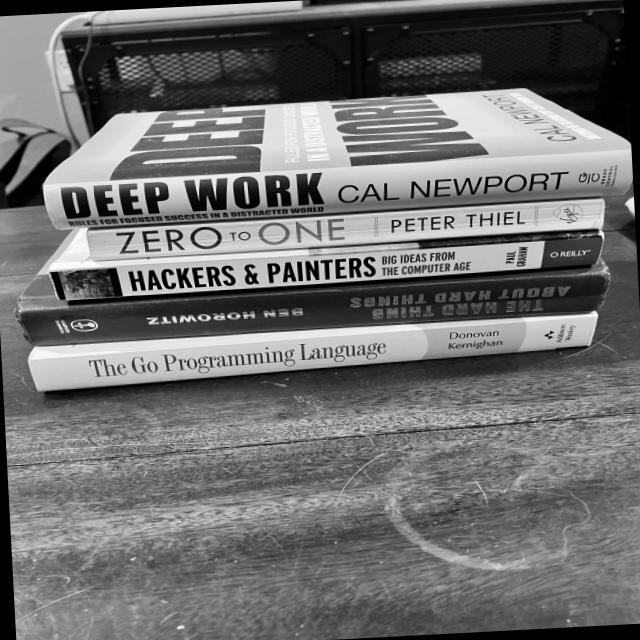book: (40, 83, 633, 231), (14, 246, 612, 347), (47, 204, 605, 303), (27, 302, 601, 393), (86, 197, 606, 262)
